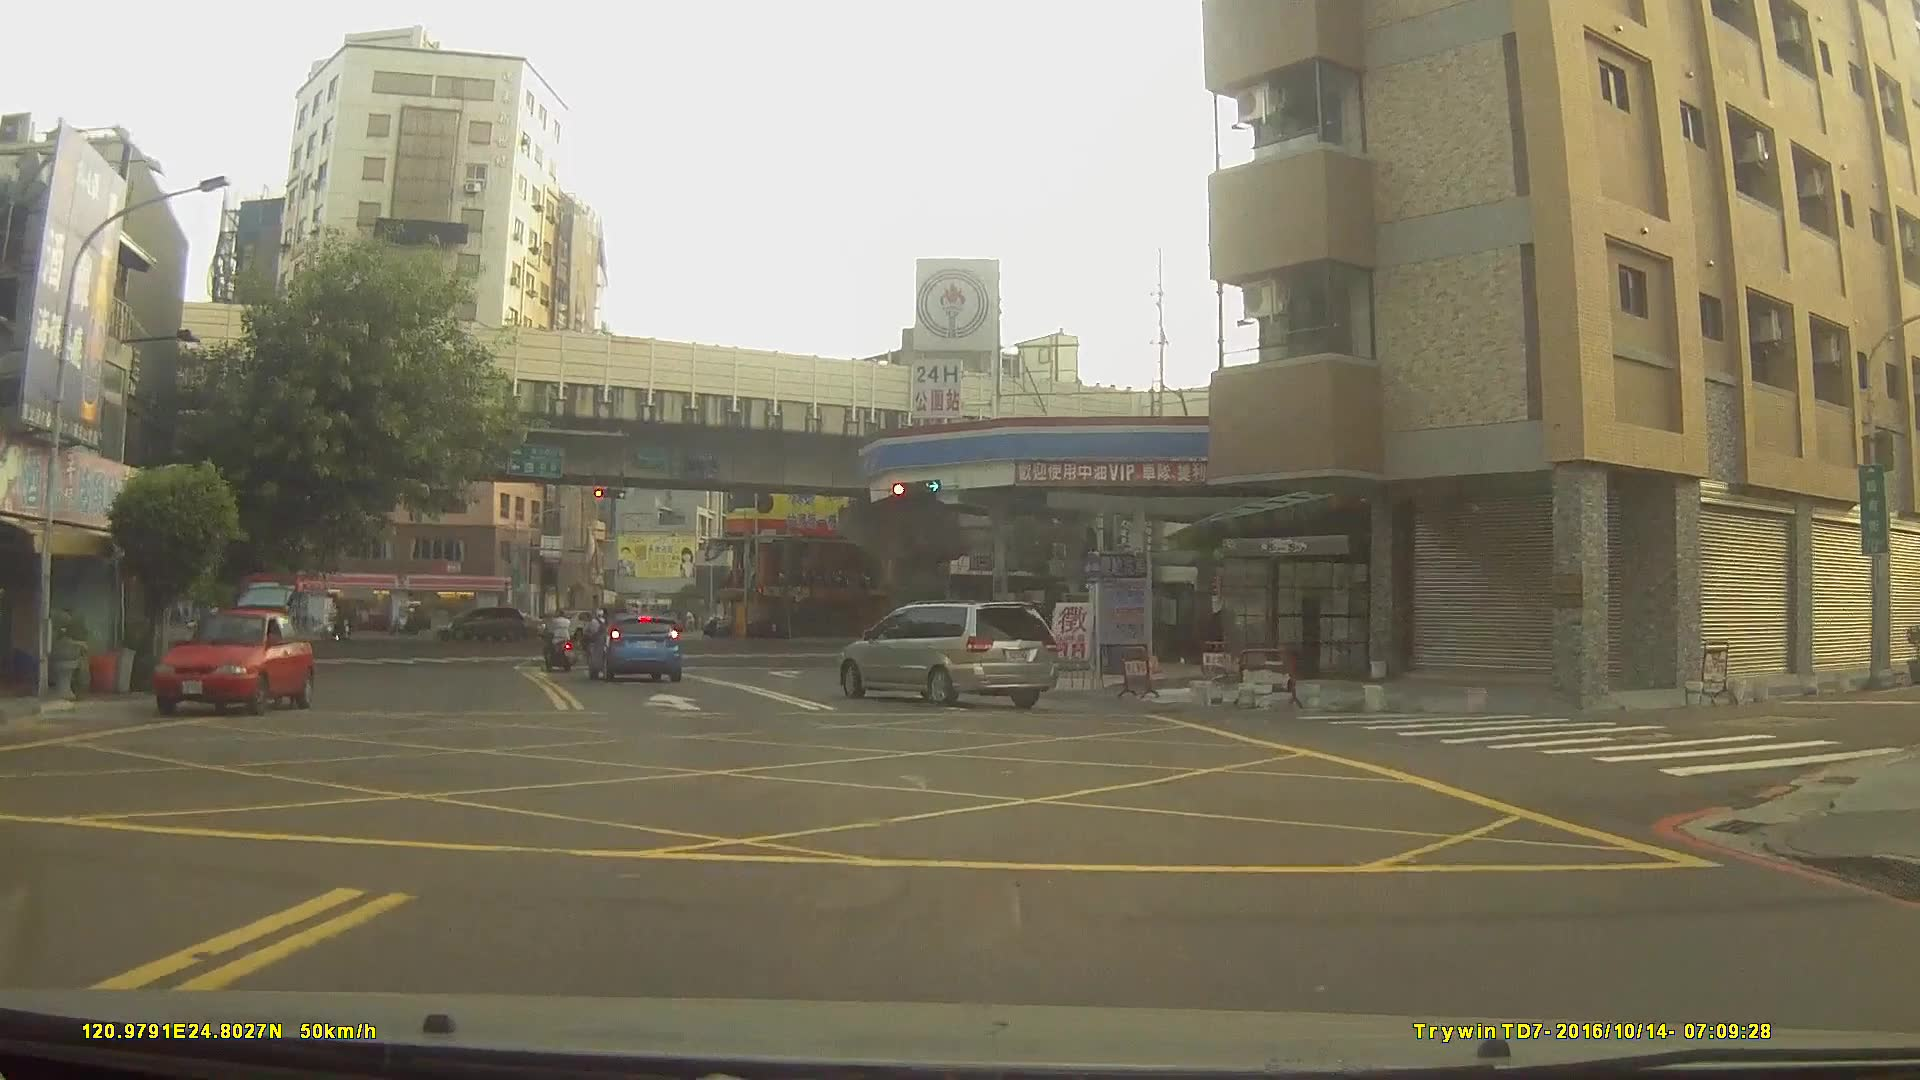rider: (541, 609, 575, 669), (325, 605, 354, 645)
vehicle: (838, 601, 1058, 708), (151, 606, 316, 718), (582, 613, 682, 684), (432, 609, 528, 646), (537, 604, 616, 638)
